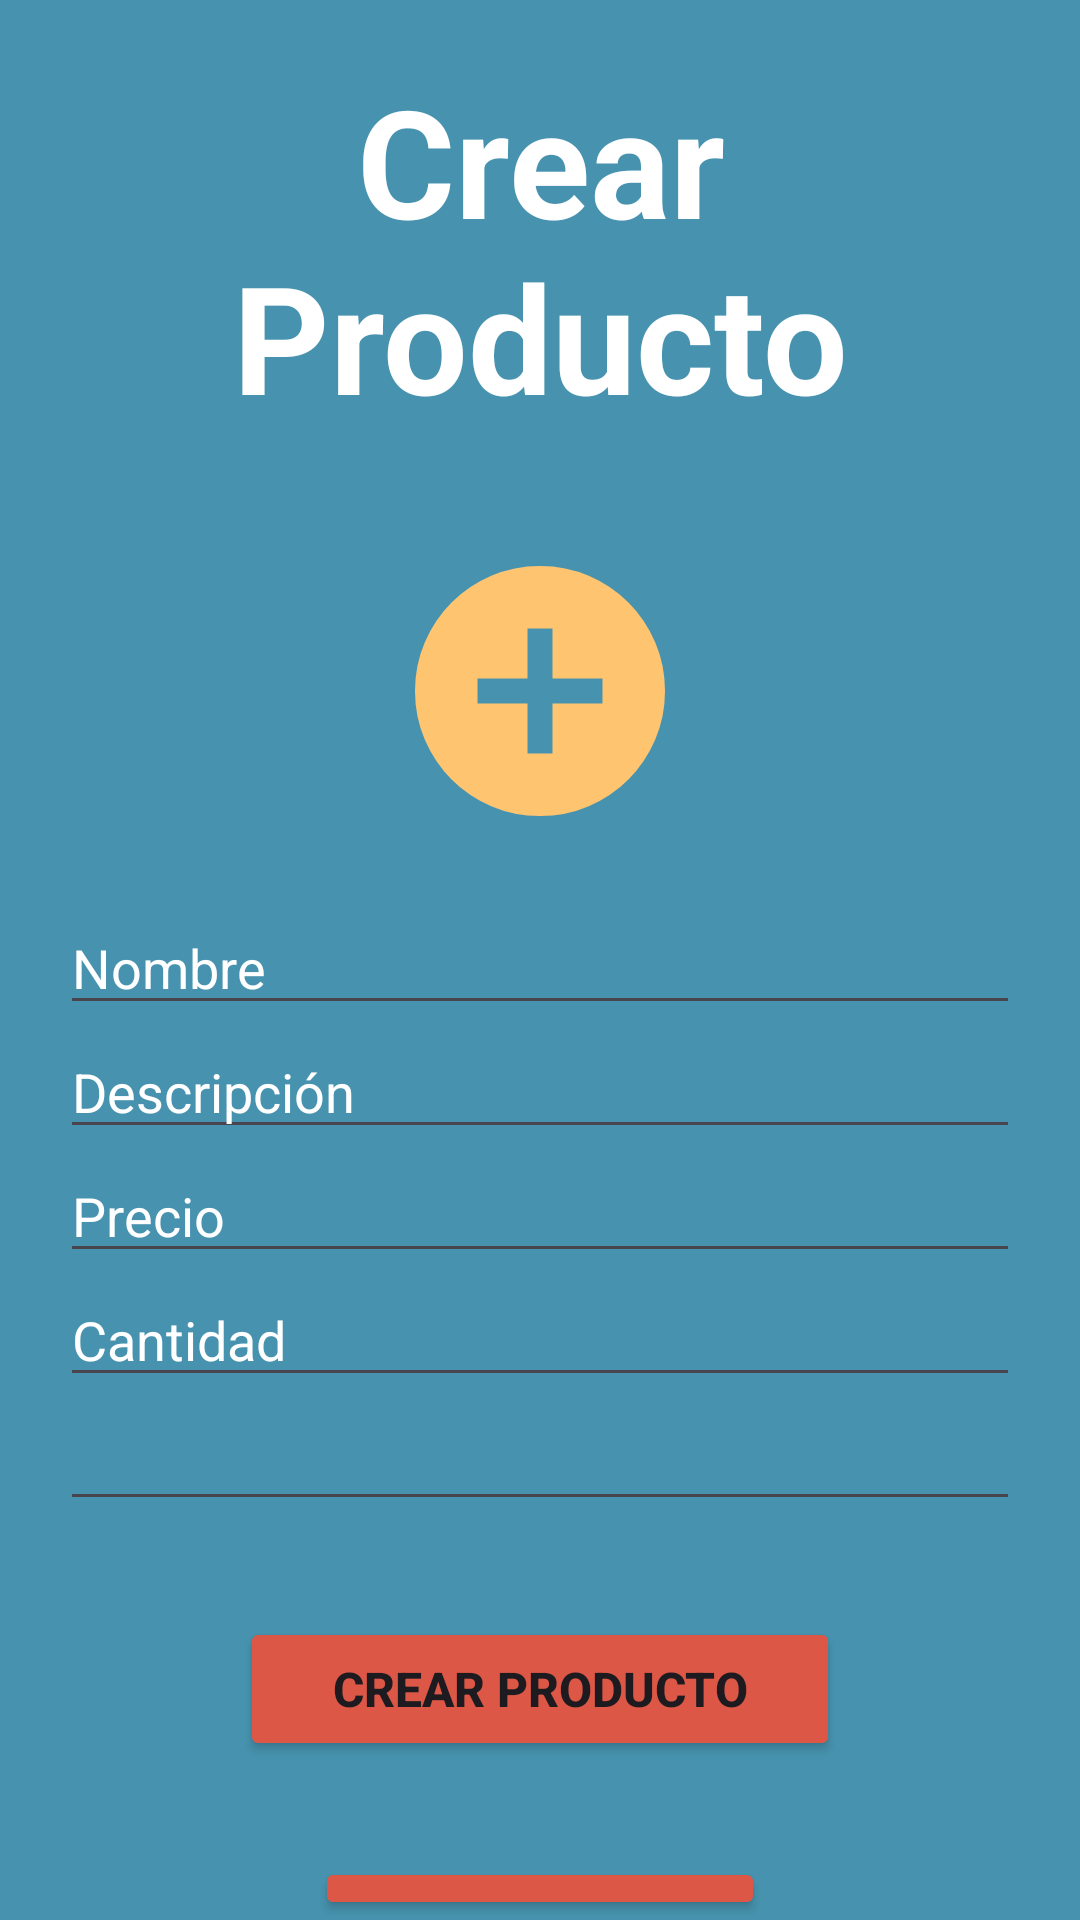

Named icons in this screenshot (1080×1920) and their bounding boxes, bbox=[x1, y1, x2, y2]:
add circle: bbox=[415, 566, 665, 816]
